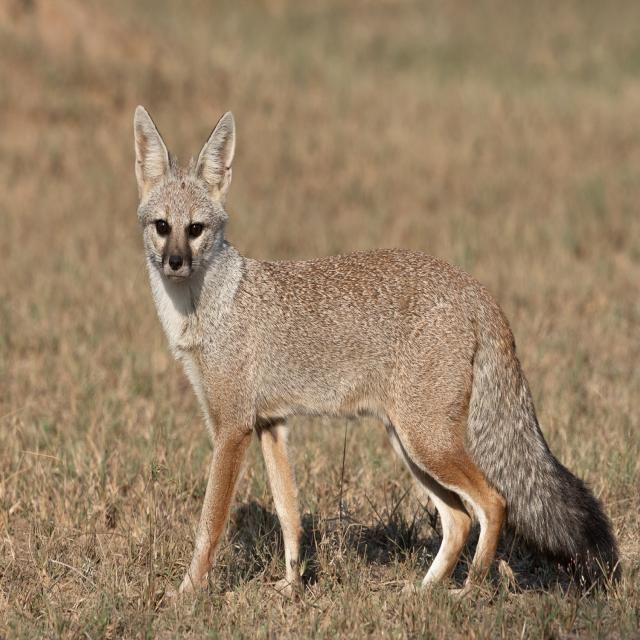Fox: (134, 104, 608, 596)
